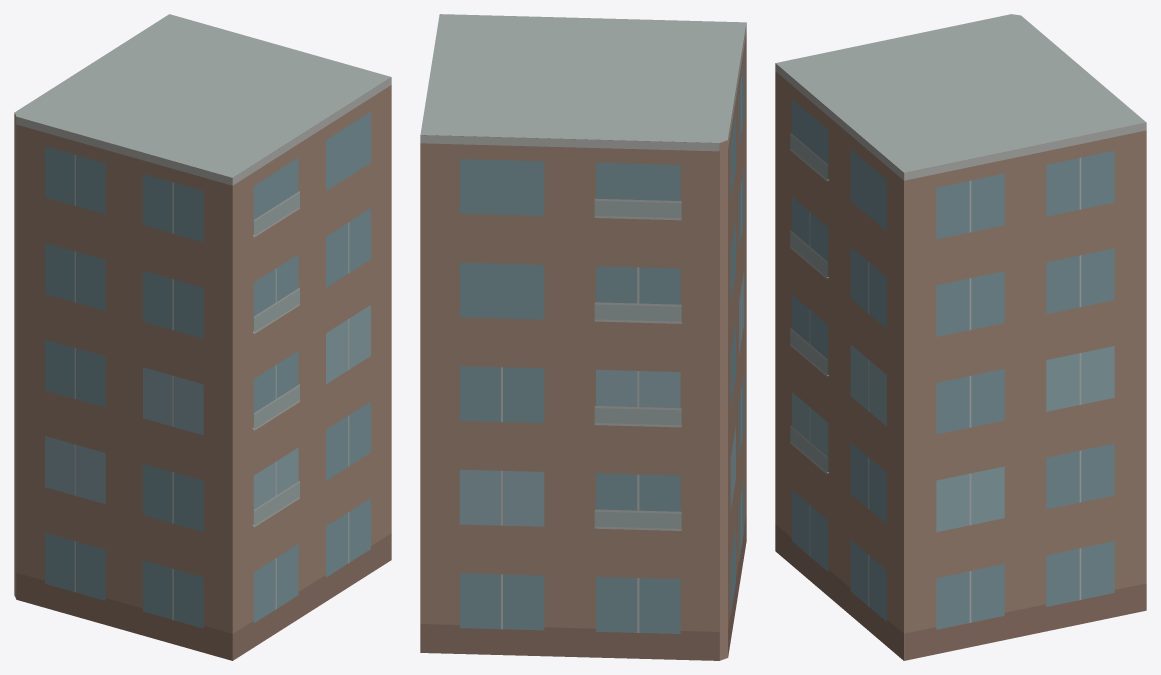
The model's file is survey-upis-33025467.glb.
3 views of the same model, side by side, from view 1: azimuth 30°, elevation 25°; view 2: azimuth 150°, elevation 25°; view 3: azimuth 270°, elevation 25° (orthographic). The views are drawn at different scales.
Parts seen in each view (by area): view 1: survey-upis-33025467.tmp; view 2: survey-upis-33025467.tmp; view 3: survey-upis-33025467.tmp.
Part boxes in pixels (bbox=[...]): survey-upis-33025467.tmp: bbox=[14, 14, 391, 660]; survey-upis-33025467.tmp: bbox=[420, 14, 746, 660]; survey-upis-33025467.tmp: bbox=[775, 14, 1146, 660].
Size of the model in its own units: 10.51 by 15.05 by 10.38.
